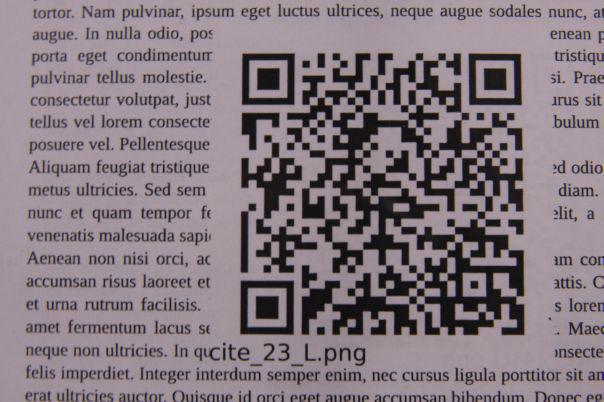Finder pattern: (238, 48, 301, 111), (236, 276, 300, 338), (465, 49, 527, 109)
